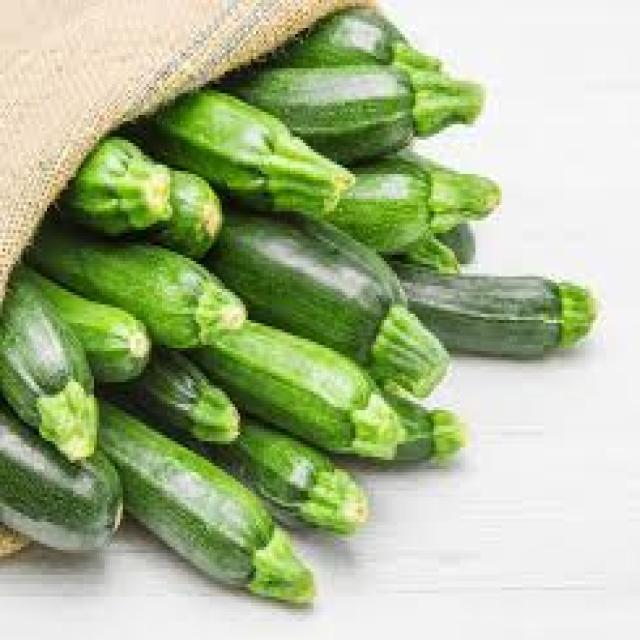Zucchini: (250, 67, 491, 150)
